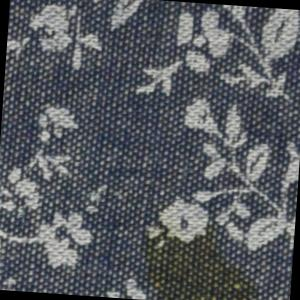Oil Stain: (135, 211, 271, 300)
